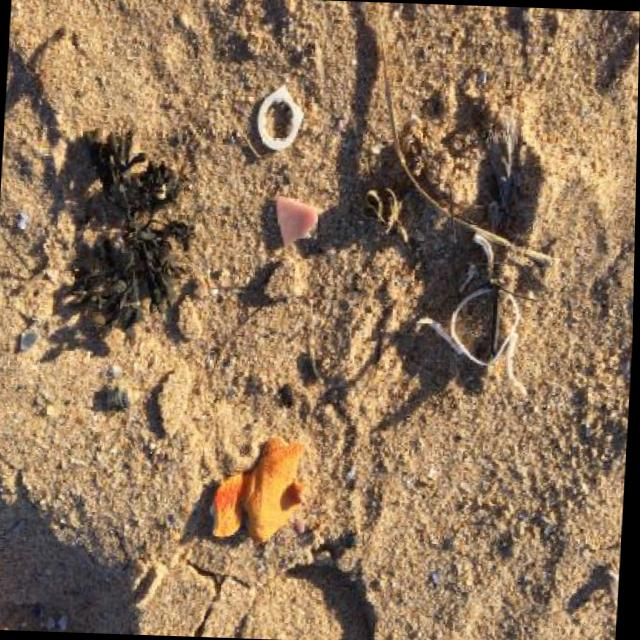other: (273, 195, 321, 249)
plastic: (256, 81, 305, 150)
